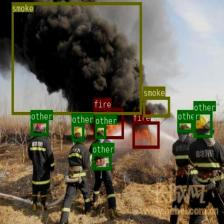fire: (94, 108, 124, 139), (132, 121, 159, 148)
smoke: (11, 2, 142, 114), (142, 96, 169, 117)
